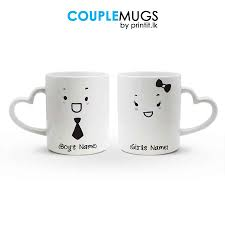mug: (4, 65, 117, 161), (111, 69, 222, 161)
